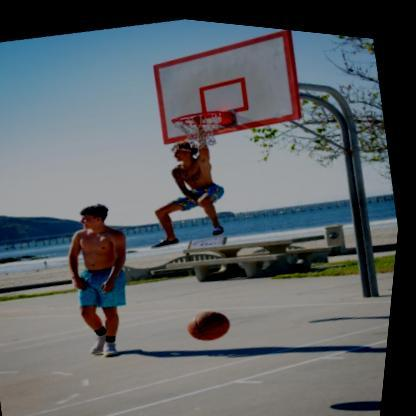basketball: (189, 299, 240, 342)
rim: (170, 100, 232, 150)
